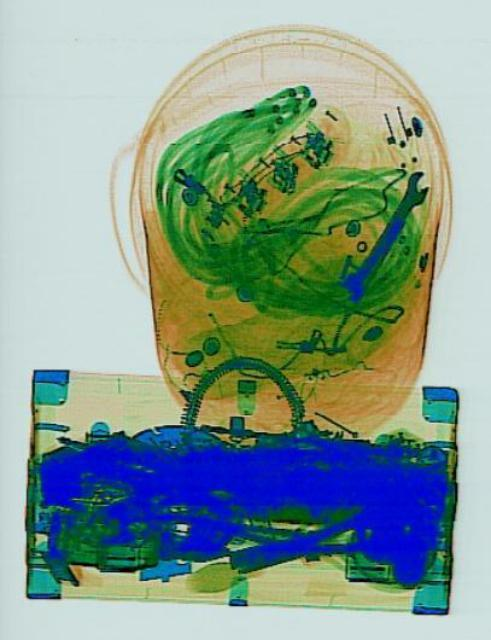Pliers: (260, 508, 380, 566)
Wrench: (334, 163, 435, 305)
